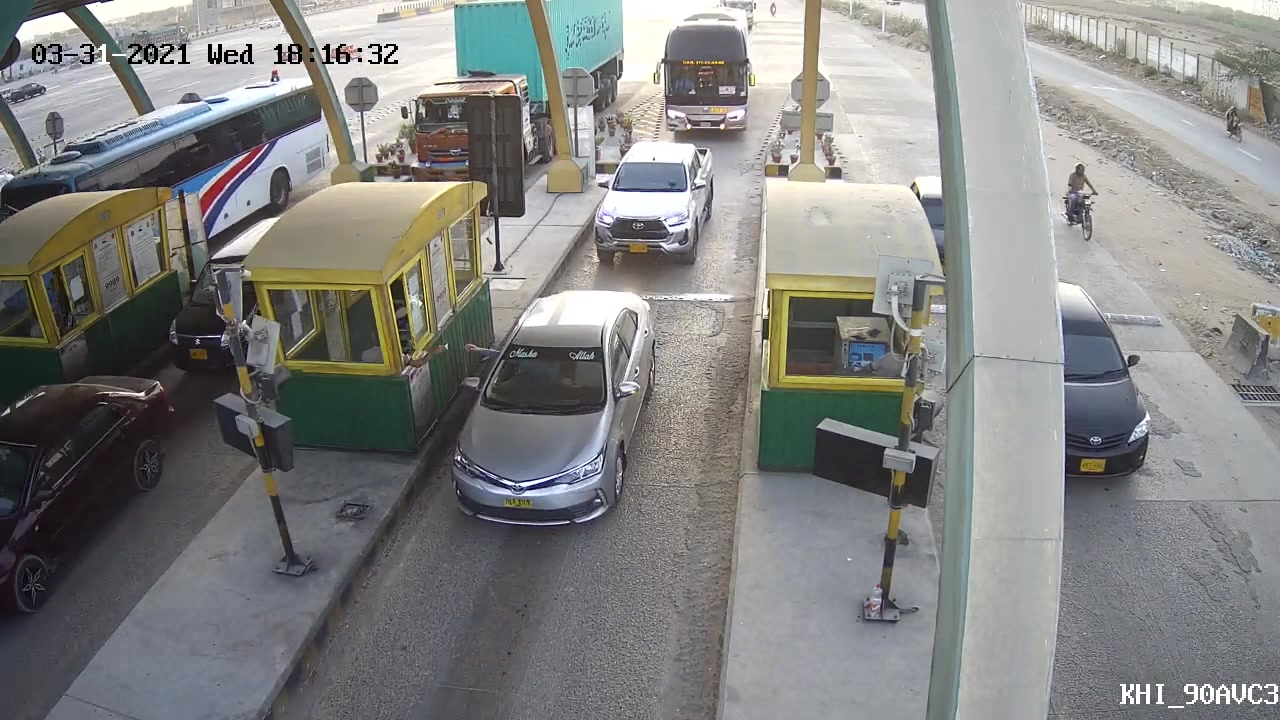F1: (439, 287, 664, 527), (589, 138, 722, 271)
